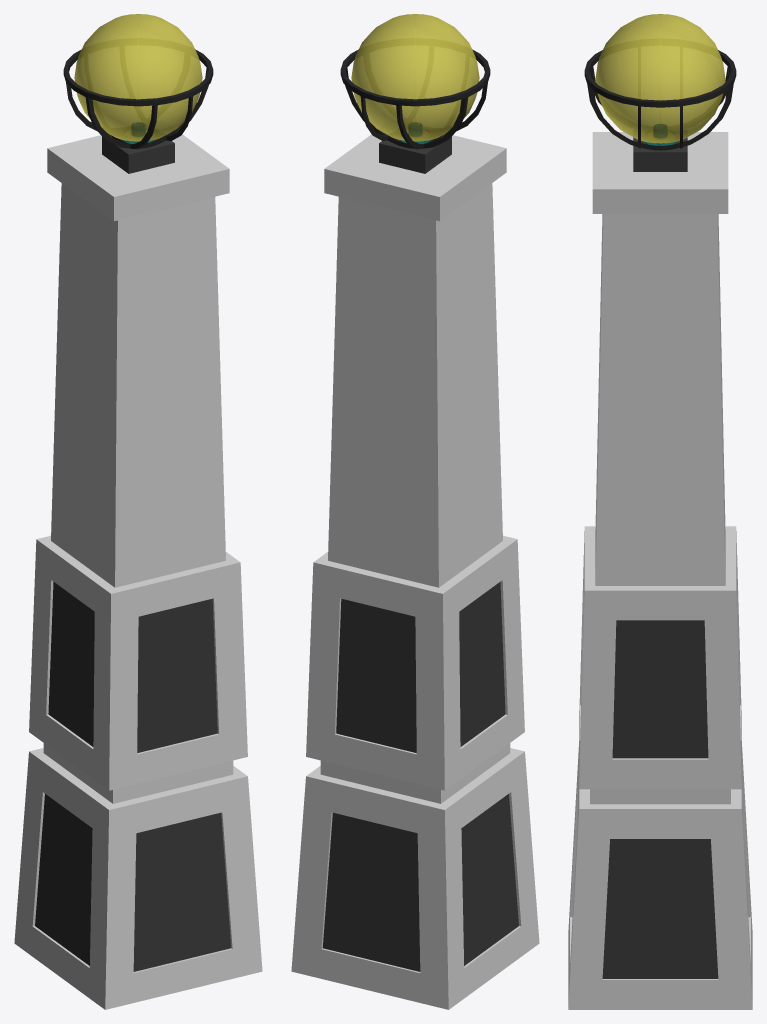
Rendered from Lamp Post.fbx.
3 views of the same model, side by side, from view 1: azimuth 30°, elevation 25°; view 2: azimuth 150°, elevation 25°; view 3: azimuth 270°, elevation 25° (orthographic).
Visible parts, largest first — view 1: Pillar1, Lamp_Post_Globe1, Lamp_Stand1; view 2: Pillar1, Lamp_Post_Globe1, Lamp_Stand1; view 3: Pillar1, Lamp_Post_Globe1, Lamp_Stand1.
Boxes of the visible parts, x1,y1,x2,y2 form: Pillar1: [14, 134, 262, 1009]; Lamp_Post_Globe1: [74, 14, 202, 141]; Lamp_Stand1: [63, 49, 213, 149]; Pillar1: [291, 134, 539, 1009]; Lamp_Post_Globe1: [351, 14, 479, 141]; Lamp_Stand1: [340, 49, 490, 149]; Pillar1: [568, 132, 752, 1009]; Lamp_Post_Globe1: [595, 14, 725, 143]; Lamp_Stand1: [584, 50, 736, 150].
Size of the model in its own units: 432 by 2454 by 432.
